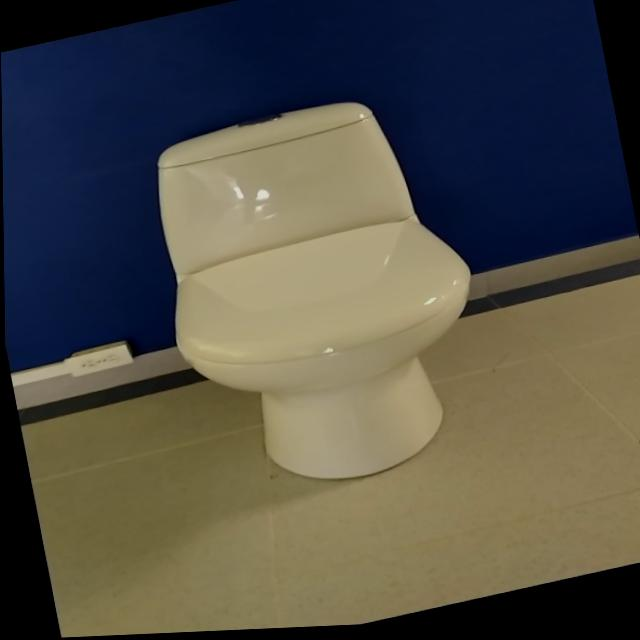toilet: (136, 79, 505, 514)
